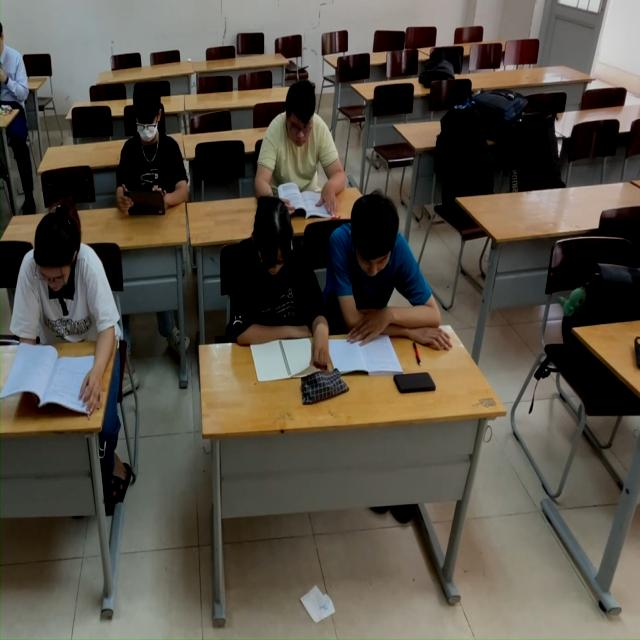read: (1, 182, 105, 417), (228, 199, 317, 402), (338, 189, 425, 382), (256, 85, 348, 199), (115, 83, 175, 230)
